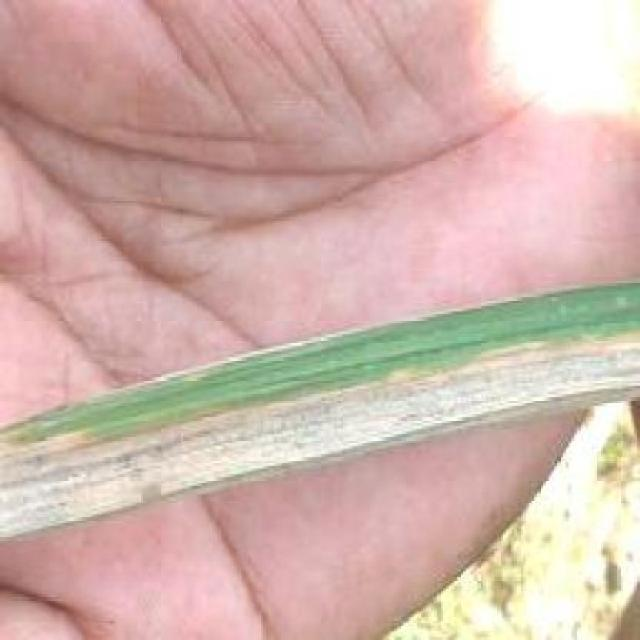Brown_Spot: (26, 352, 628, 508)
